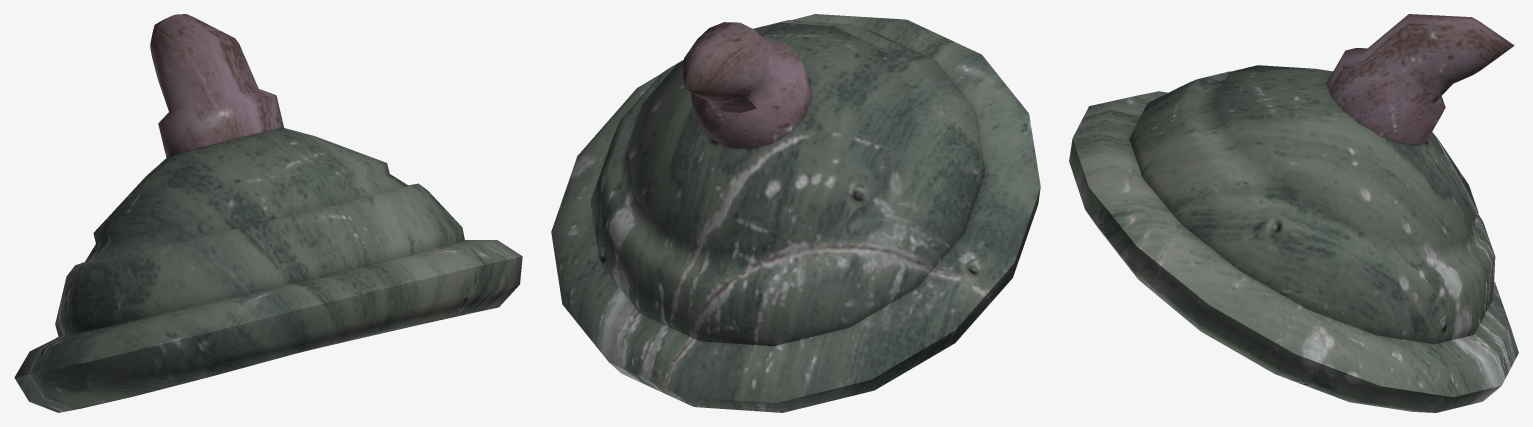
Rendered from Players_hat_4.FBX.
3 renders of one model, left to right at view 1: azimuth 30°, elevation 25°; view 2: azimuth 150°, elevation 25°; view 3: azimuth 270°, elevation 25°, orthographic. The views are drawn at different scales.
Parts seen in each view (by area): view 1: Players_hat_2; view 2: Players_hat_2; view 3: Players_hat_2.
Part boxes in pixels (bbox=[...]): Players_hat_2: bbox=[14, 14, 522, 412]; Players_hat_2: bbox=[551, 14, 1040, 412]; Players_hat_2: bbox=[1069, 14, 1518, 412].
Size of the model in its own units: 15.86 by 12.27 by 14.11.
